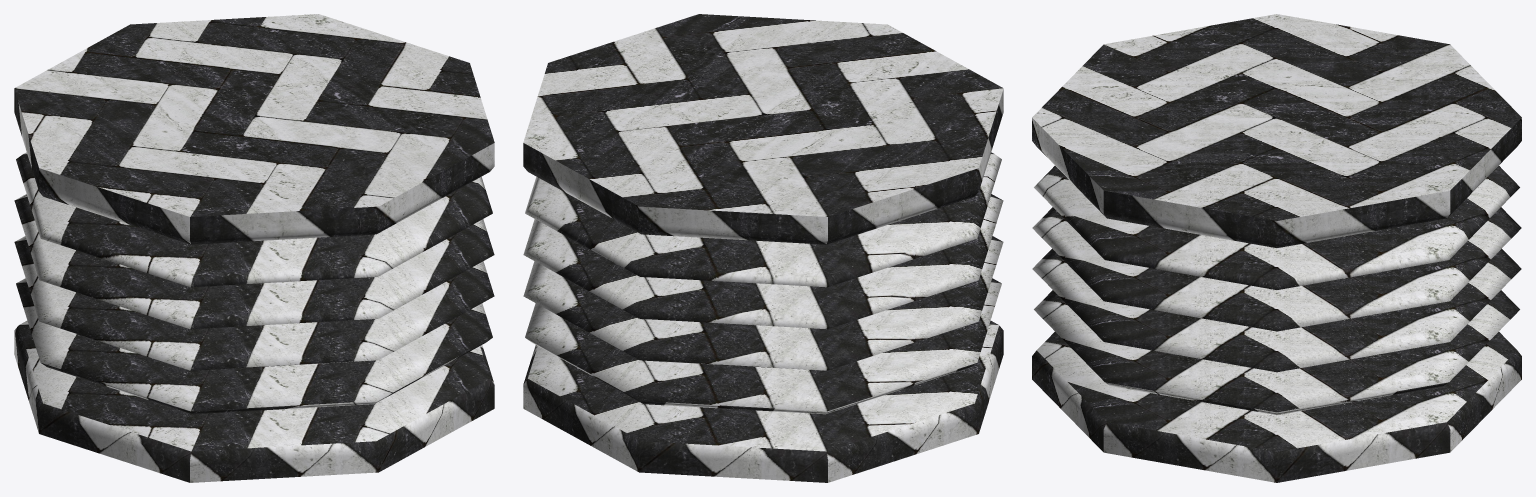
File: hose.FBX
3 views of the same model, side by side, from view 1: azimuth 30°, elevation 25°; view 2: azimuth 150°, elevation 25°; view 3: azimuth 270°, elevation 25° (orthographic).
Parts seen in each view (by area): view 1: Hose001; view 2: Hose001; view 3: Hose001.
Boxes of the visible parts, x1=… form: Hose001: x1=14, y1=14, x2=494, y2=482; Hose001: x1=523, y1=14, x2=1003, y2=482; Hose001: x1=1032, y1=14, x2=1521, y2=482.
Size of the model in its own units: 88.86 by 52.41 by 88.86.
1 material, 1 textured.
